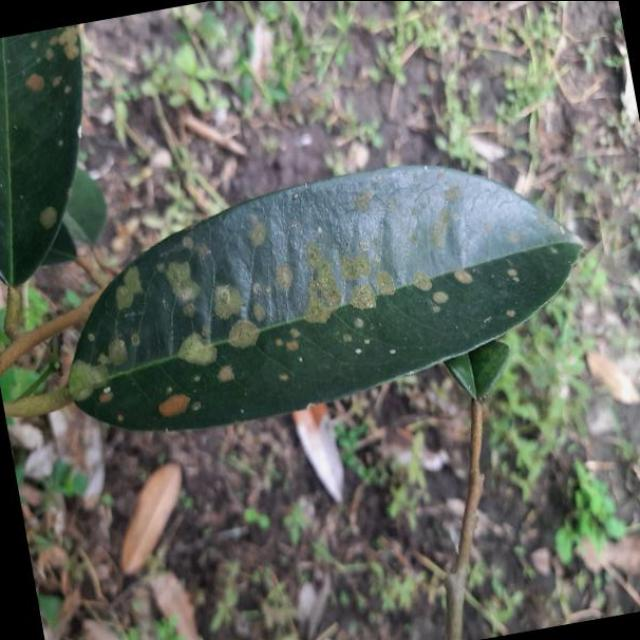Algal Leaf Spot: (28, 124, 614, 458)
